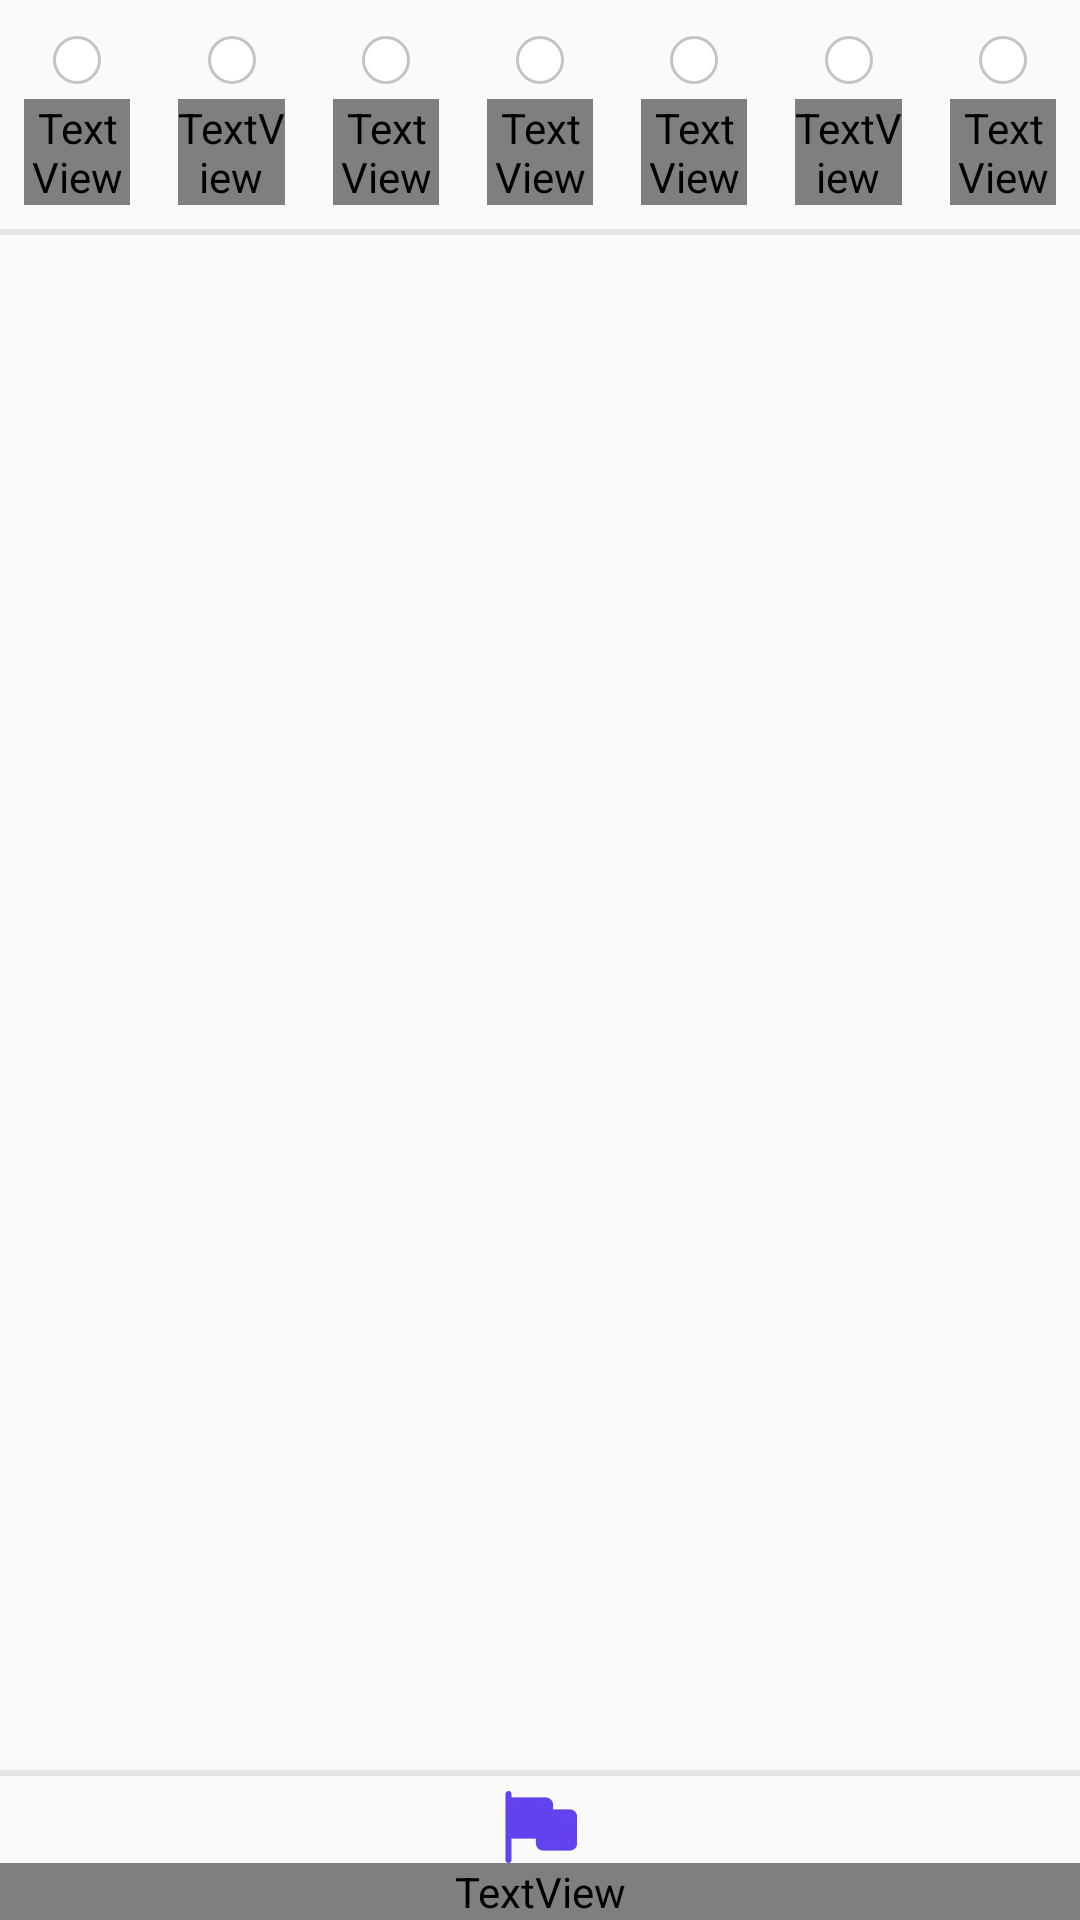

Named icons in this screenshot (1080px x 1920px) and their bounding boxes, (x1, y1, x2, y2):
journeyicon: (505, 1791, 577, 1863)
